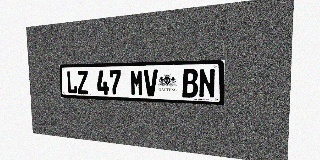4: (97, 70, 109, 95)
7: (109, 70, 121, 95)
B: (182, 69, 198, 98)
L: (66, 71, 78, 94)
M: (130, 70, 144, 96)
N: (199, 68, 216, 98)
V: (144, 69, 158, 96)
Z: (77, 70, 89, 94)
